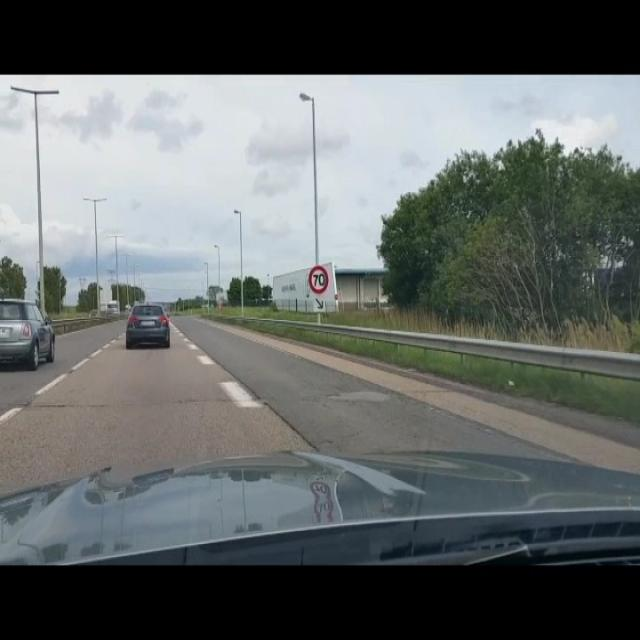side_right: (314, 297, 326, 312)
speed_70: (308, 265, 329, 296)
